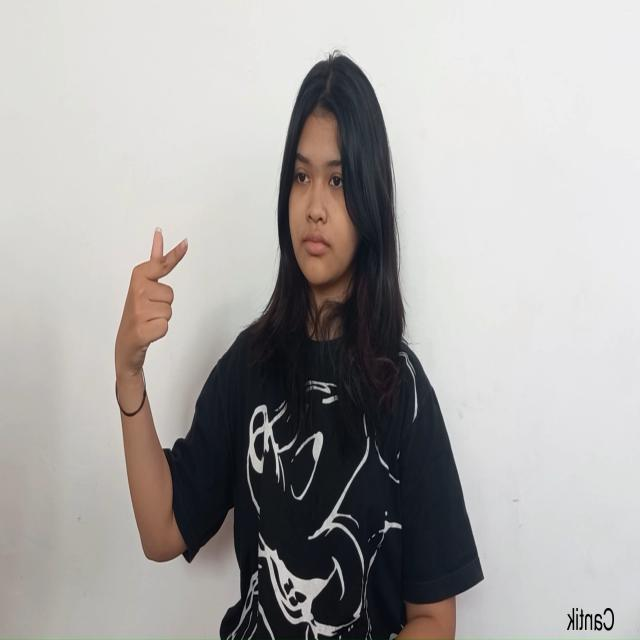Cantik -BISINDO-: (113, 225, 189, 425)
